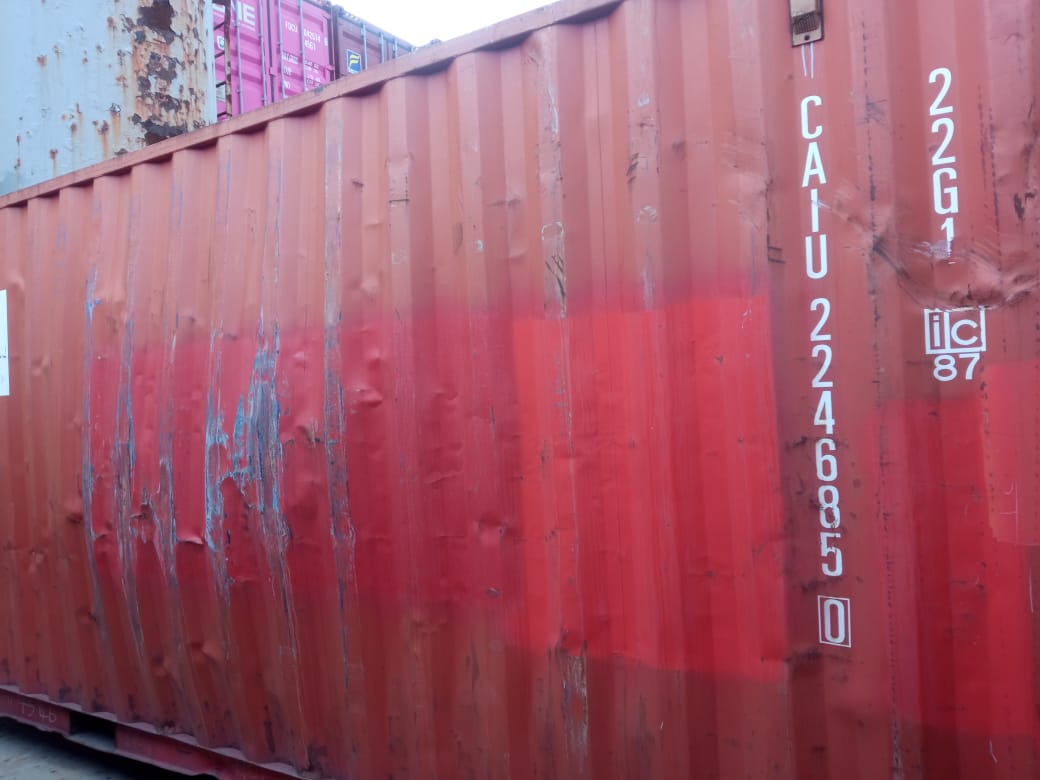bulged: (70, 326, 381, 610)
dented: (842, 210, 1040, 388)
